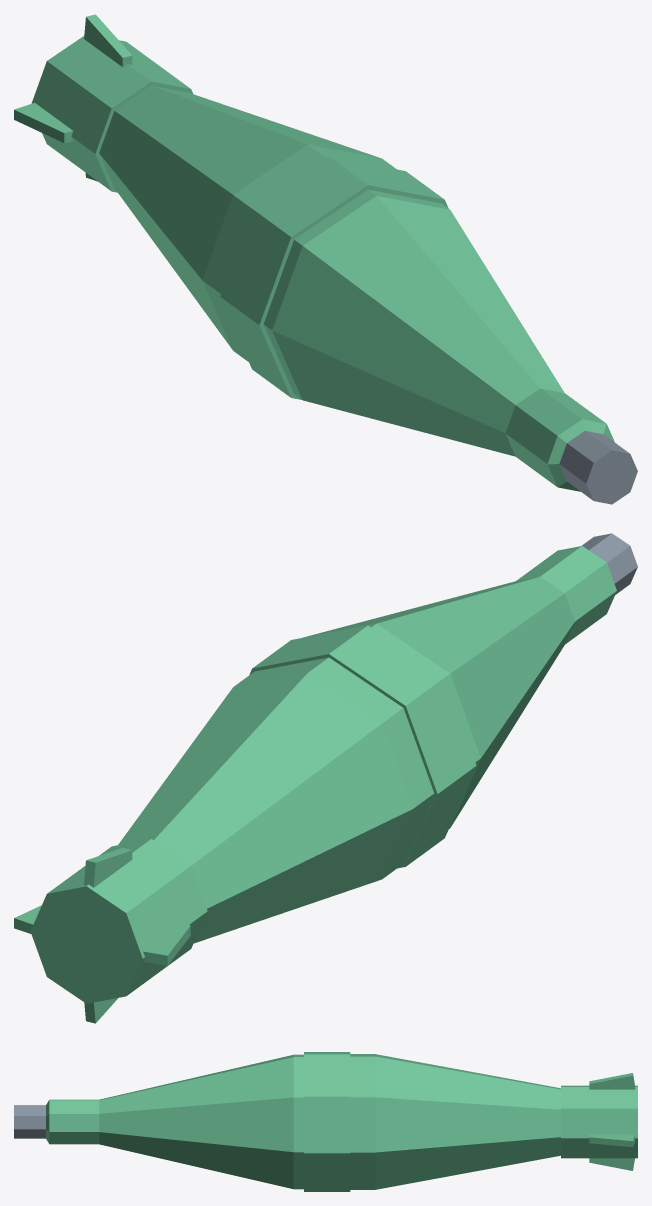
File: item_rpg_ammo.glb
3 renders of one model, top to bottom at view 1: azimuth 30°, elevation 25°; view 2: azimuth 150°, elevation 25°; view 3: azimuth 270°, elevation 25°, orthographic. The views are drawn at different scales.
Parts seen in each view (by area): view 1: Rocket_submesh_0, Rocket_submesh_1; view 2: Rocket_submesh_0, Rocket_submesh_1; view 3: Rocket_submesh_0, Rocket_submesh_1.
Boxes of the visible parts, x1,y1,x2,y2 form: Rocket_submesh_0: (14,14,614,491); Rocket_submesh_1: (559,430,637,504); Rocket_submesh_0: (14,546,616,1023); Rocket_submesh_1: (582,533,637,594); Rocket_submesh_0: (46,1052,637,1191); Rocket_submesh_1: (14,1105,45,1138).
Bounding box in the file's own units: 0.1244 × 0.1244 × 0.5212.
